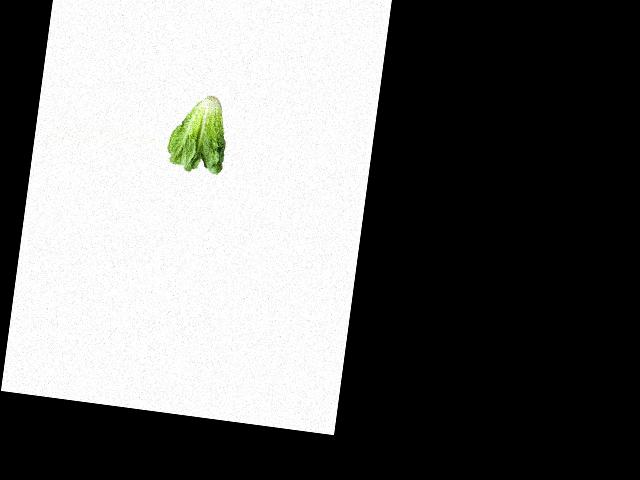lettuce: (165, 88, 233, 176)
